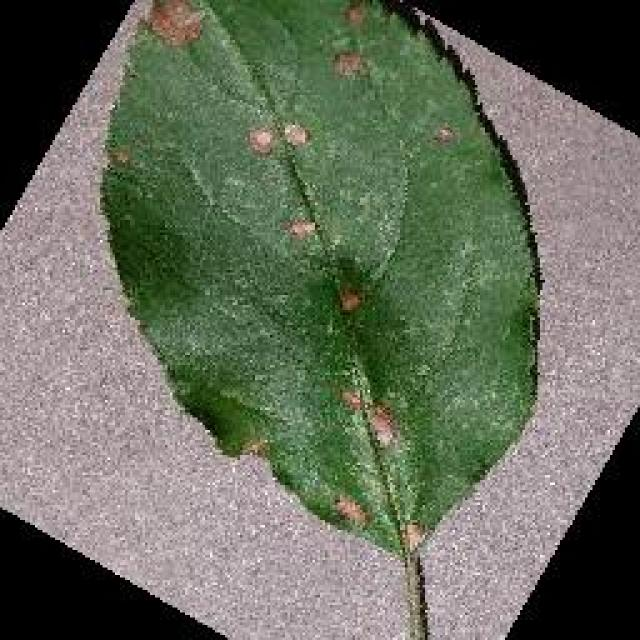Black_rot: (95, 0, 543, 560)
